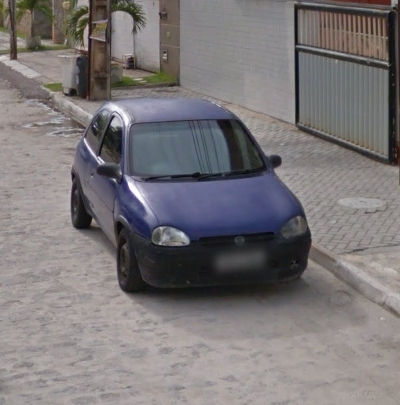car: (66, 96, 314, 294)
